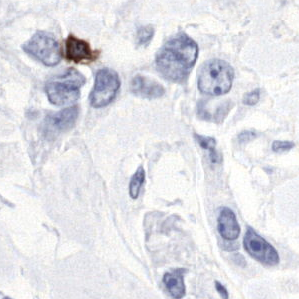Lymphocyte: (60, 32, 98, 62)
